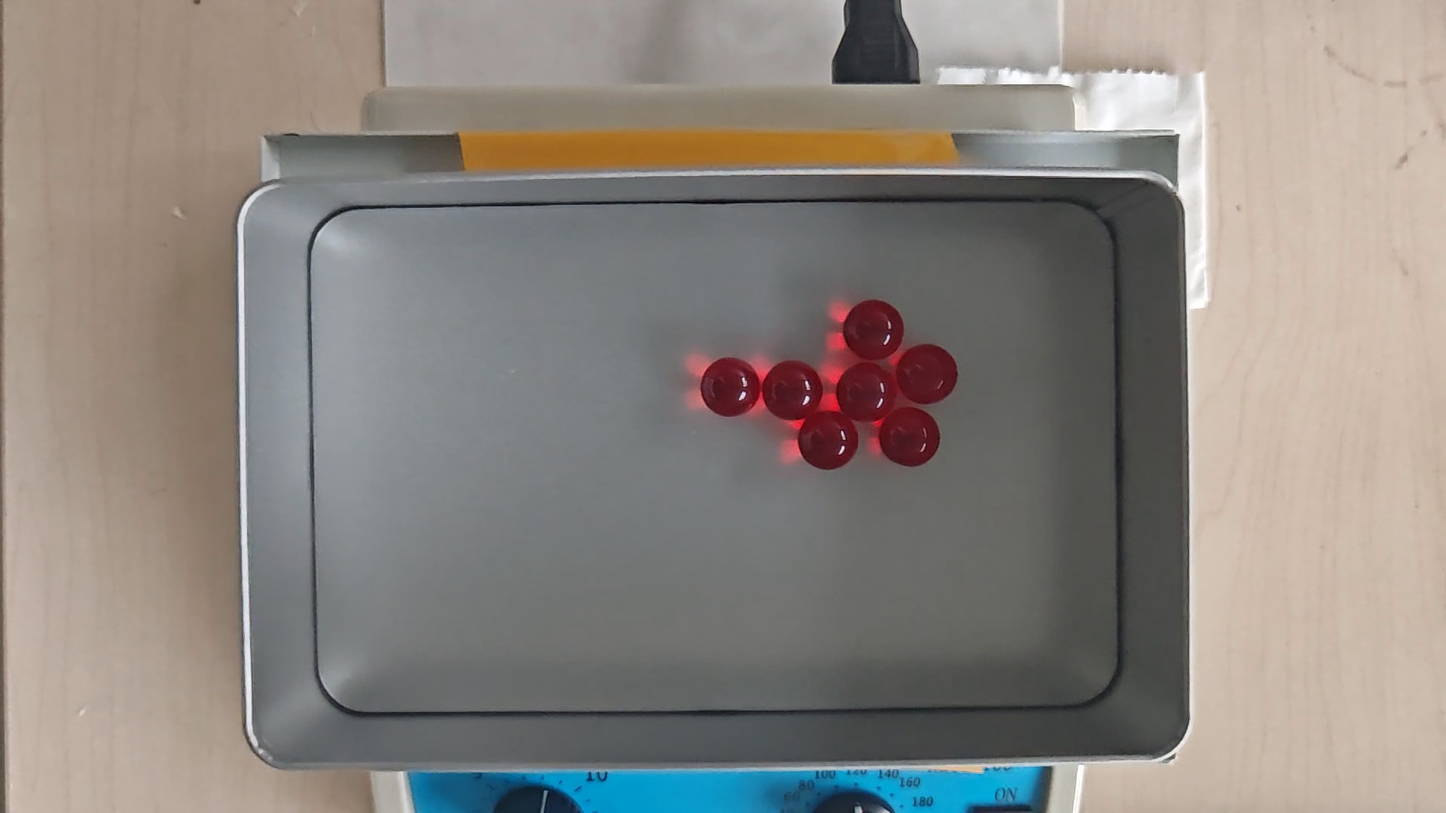ball: (843, 299, 905, 362), (897, 343, 958, 406), (700, 357, 761, 419), (763, 358, 822, 422), (798, 410, 859, 471), (880, 406, 941, 467), (836, 361, 894, 423)
container: (313, 200, 1123, 708)
